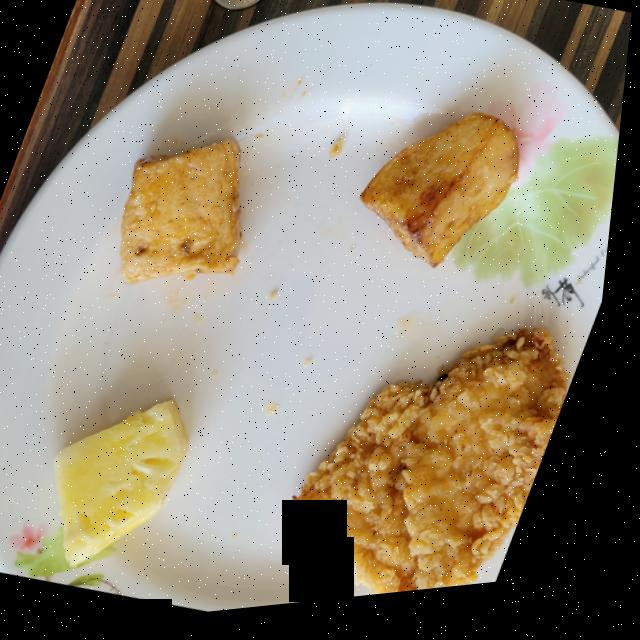coin: (212, 0, 265, 14)
creamy tofu: (125, 144, 246, 287)
fried chicken cutlet: (300, 340, 579, 604)
fried potato: (365, 123, 524, 277)
pineapple: (64, 404, 198, 570)
